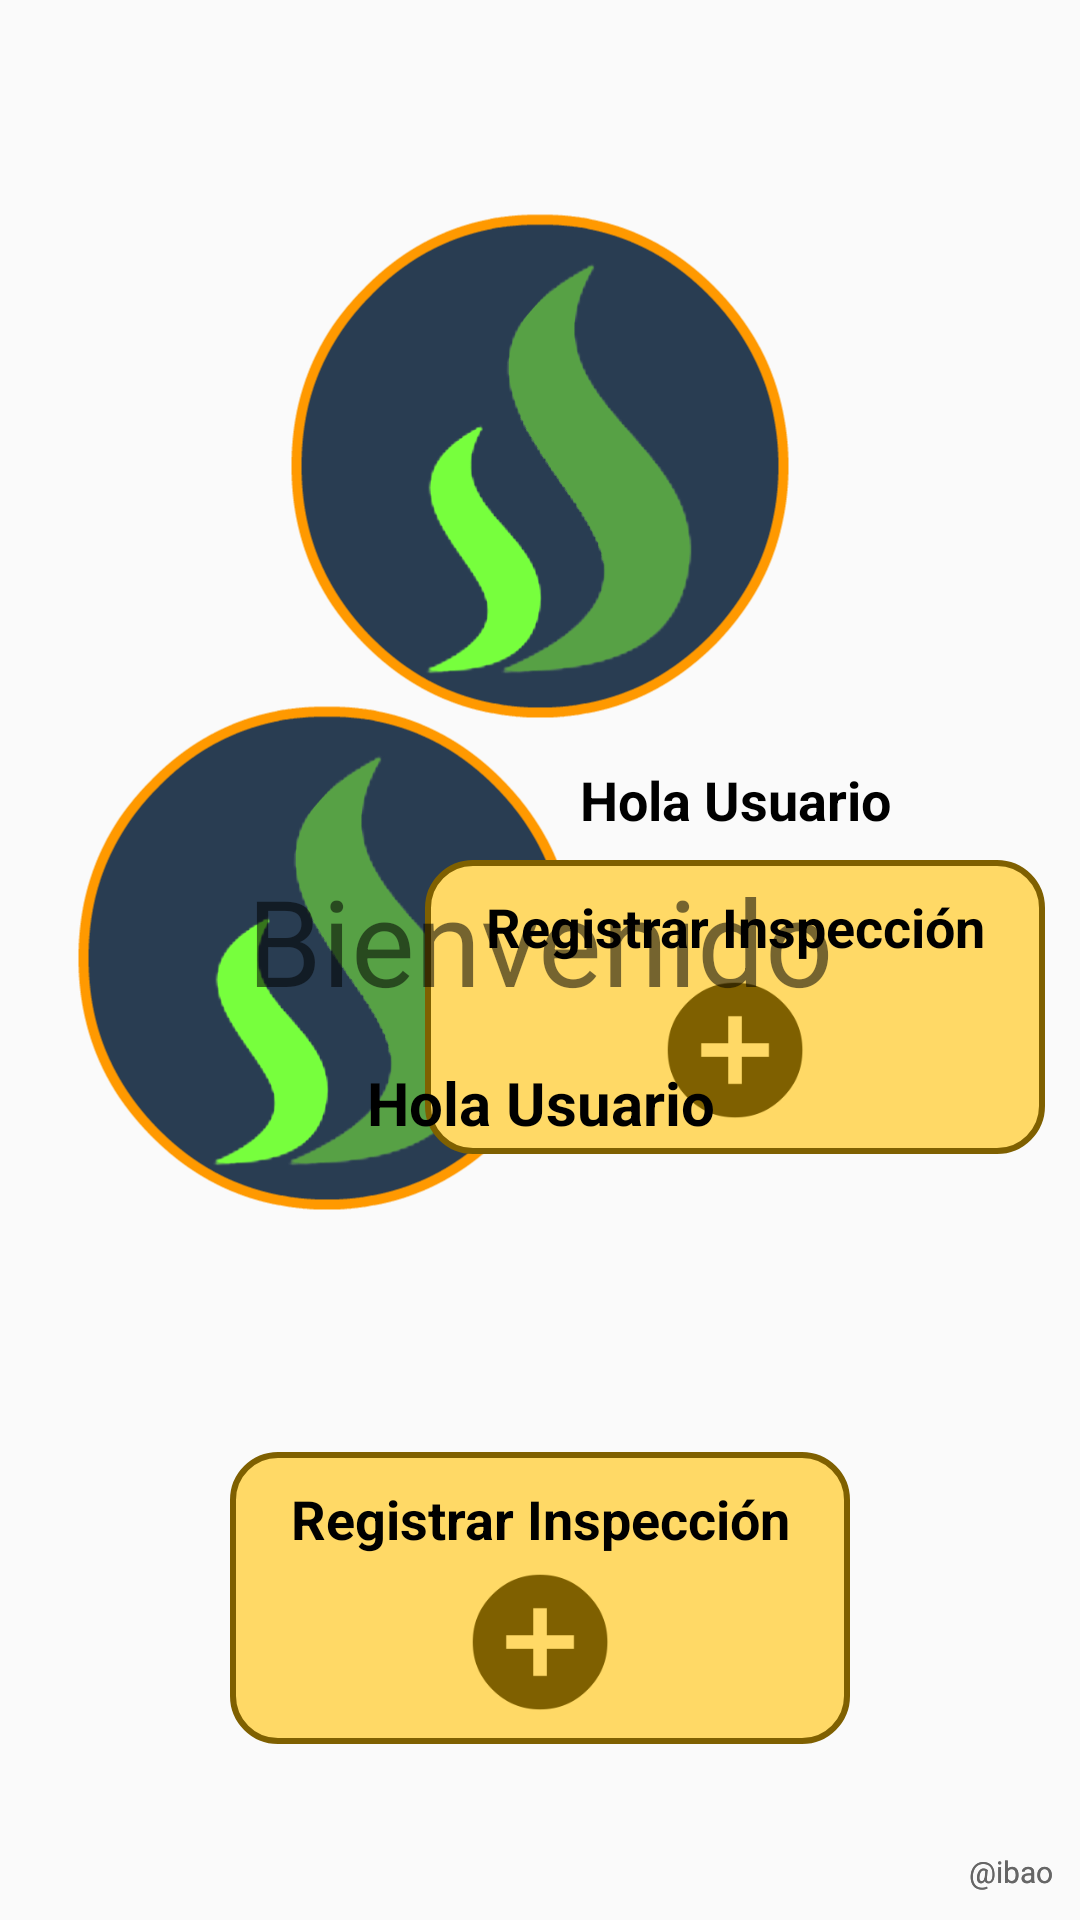

Screen size 1080px×1920px. Icon name, then its center in pixels as point (x, y):
add circle: point (735, 1042), point (540, 1642)
